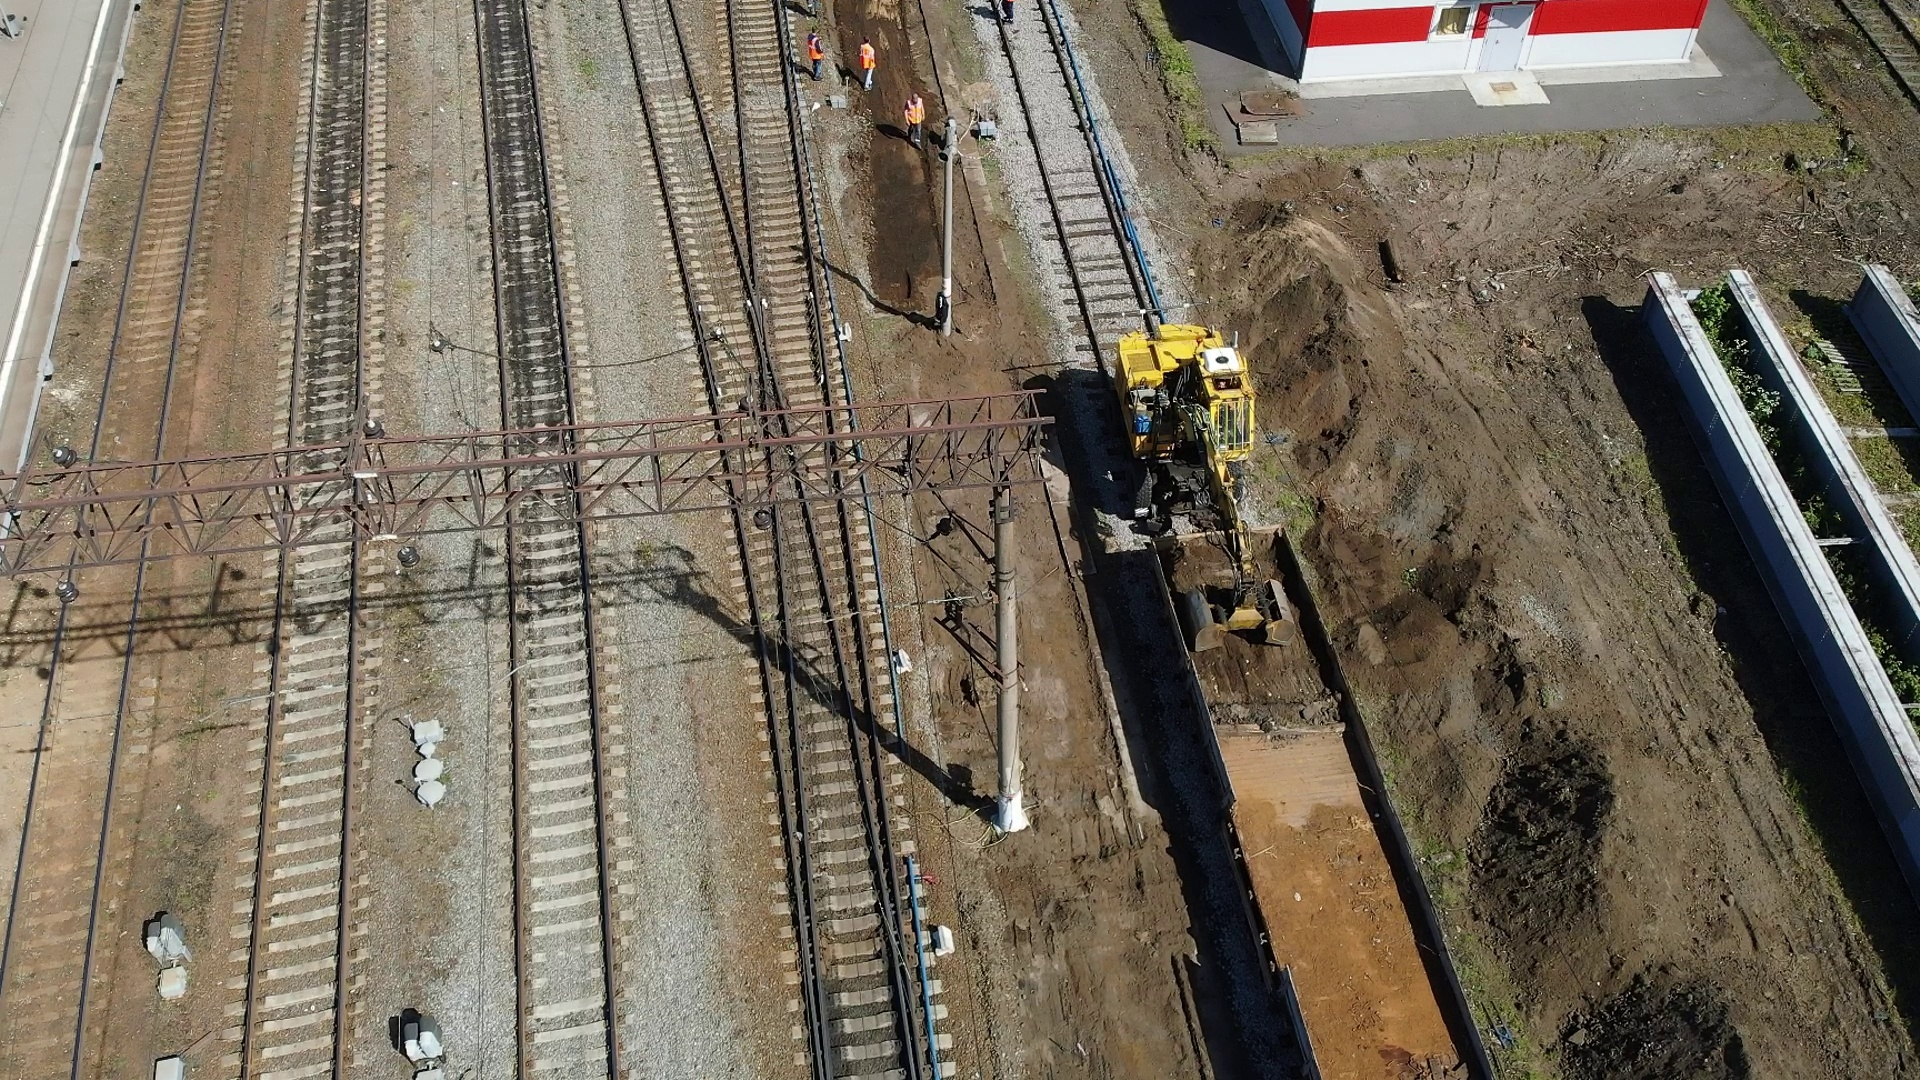kjtv: (1112, 310, 1250, 517)
